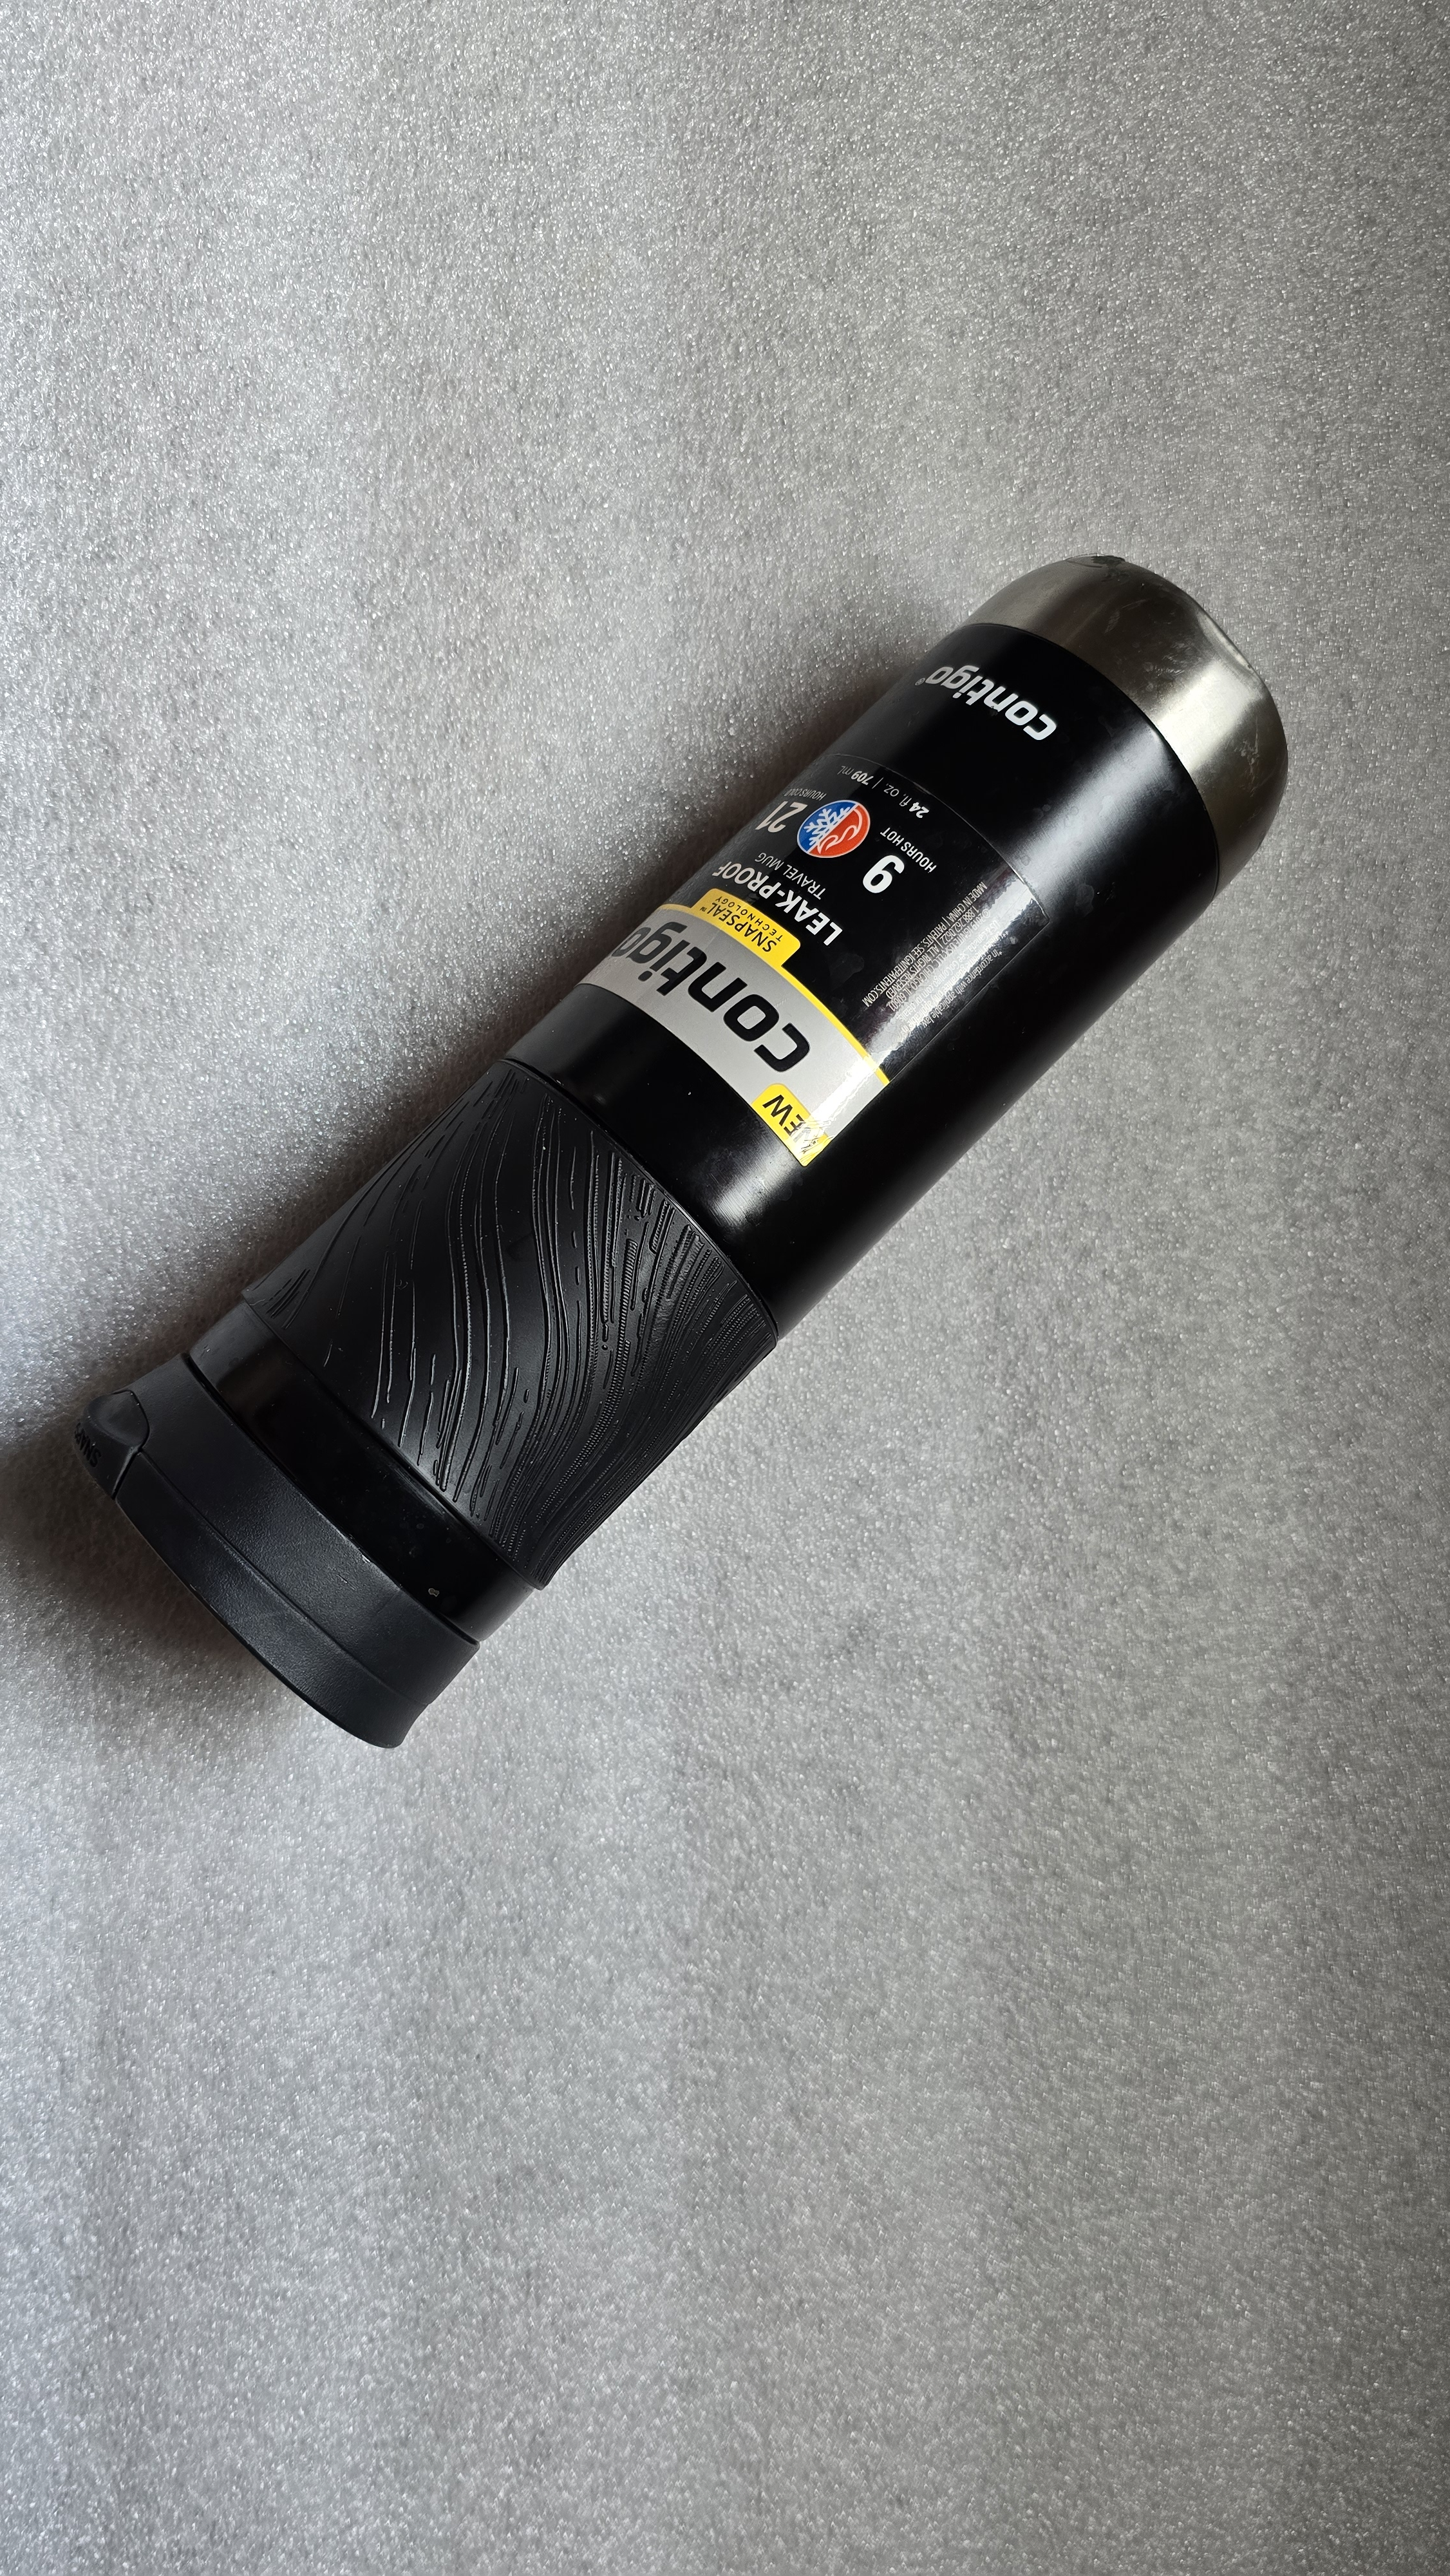bottle: (42, 479, 1330, 1828)
